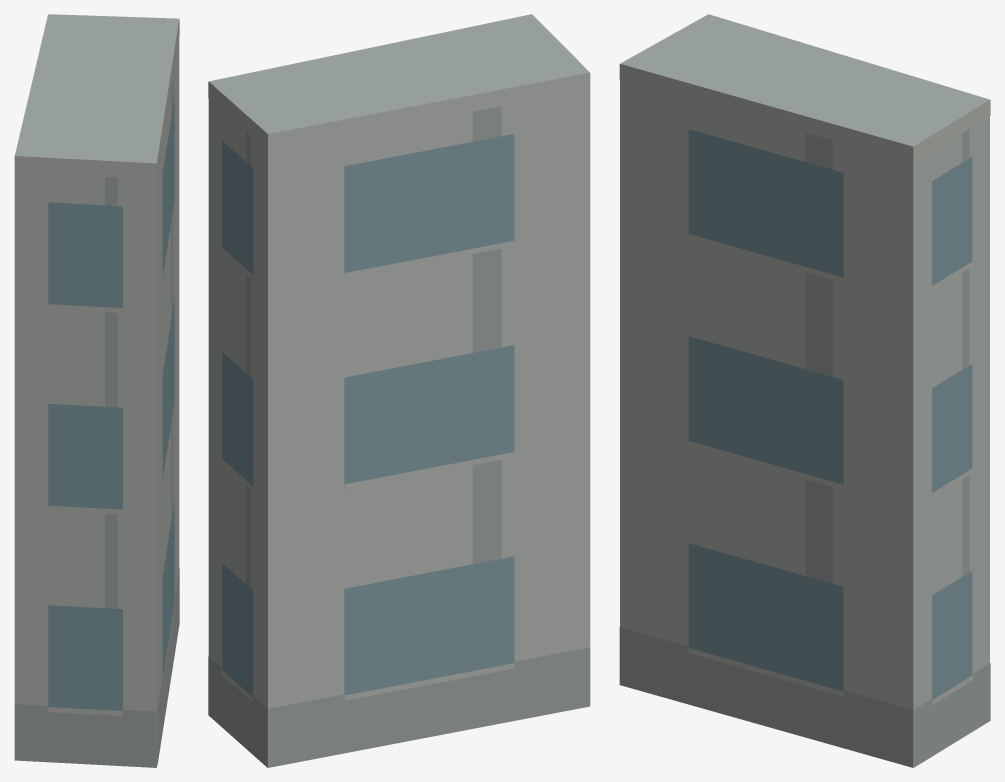
The model's file is survey-upis-32571556.glb.
3 renders of one model, left to right at view 1: azimuth 30°, elevation 25°; view 2: azimuth 150°, elevation 25°; view 3: azimuth 270°, elevation 25°, orthographic. The views are drawn at different scales.
Visible parts, largest first — view 1: survey-upis-32571556.tmp; view 2: survey-upis-32571556.tmp; view 3: survey-upis-32571556.tmp.
Part boxes in pixels (bbox=[...]): survey-upis-32571556.tmp: bbox=[14, 14, 179, 767]; survey-upis-32571556.tmp: bbox=[208, 14, 590, 767]; survey-upis-32571556.tmp: bbox=[619, 14, 990, 767].
Bounding box in the file's own units: 4.2 × 9.15 × 4.95.
